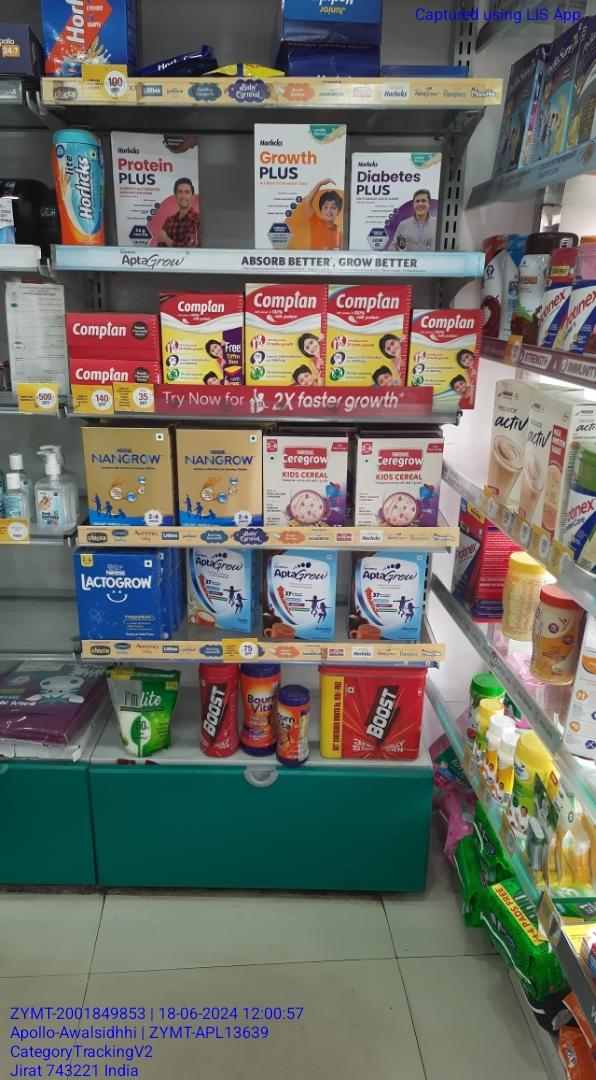BOURN_VITA_200_G_JAR: (276, 687, 310, 766)
BOURN_VITA_500_G_JAR: (241, 664, 273, 755)
COMPLAN_CHOCOLATE_500_GMS_PACK: (161, 293, 243, 385)
COMPLAN_CREAMY_CLASSIC_500_G_PACK: (329, 284, 407, 386)
COMPLAN_KESAR_BADAM_500_GMS_PACK: (246, 283, 325, 388)
